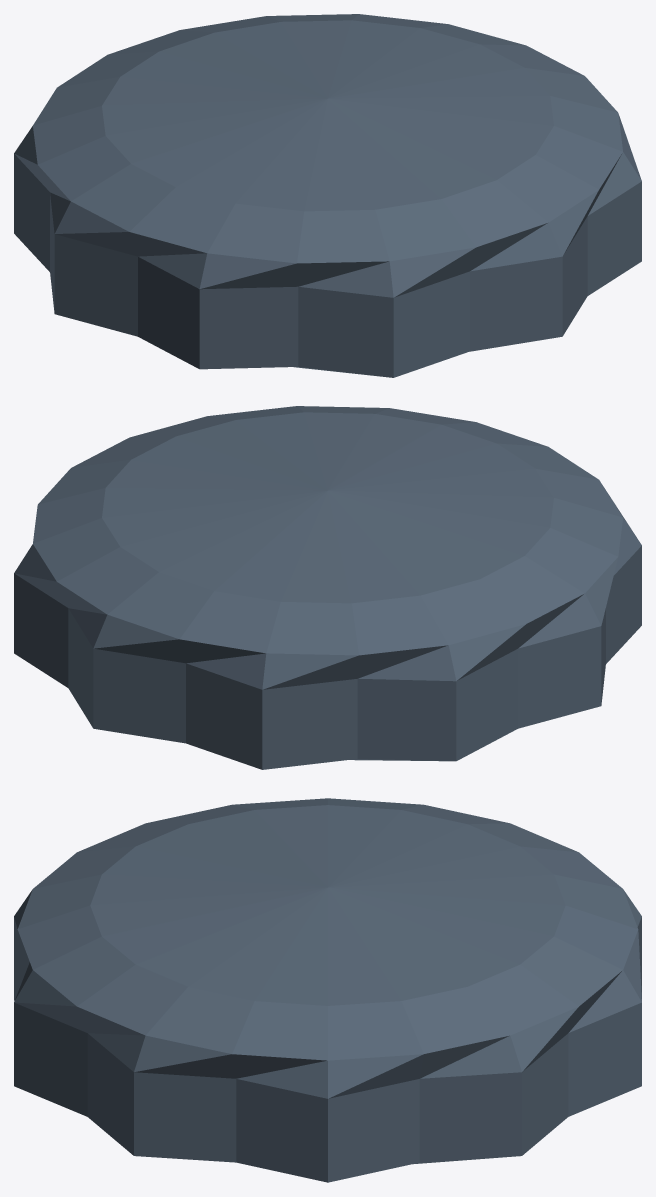
File: bottle_cap.glb
The picture shows the model from 3 angles, top to bottom: view 1: azimuth 30°, elevation 25°; view 2: azimuth 150°, elevation 25°; view 3: azimuth 270°, elevation 25°; orthographic projection. The views are drawn at different scales.
Visible parts, largest first — view 1: bottle_cap; view 2: bottle_cap; view 3: bottle_cap.
Part boxes in pixels (x1=…): bottle_cap: x1=14, y1=14, x2=641, y2=377; bottle_cap: x1=14, y1=406, x2=641, y2=769; bottle_cap: x1=14, y1=798, x2=641, y2=1182.
Bounding box in the file's own units: 0.05 × 0.0145 × 0.0476.
